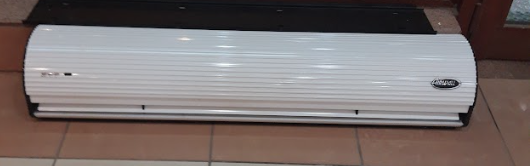Air Curtain: (17, 12, 501, 145)
